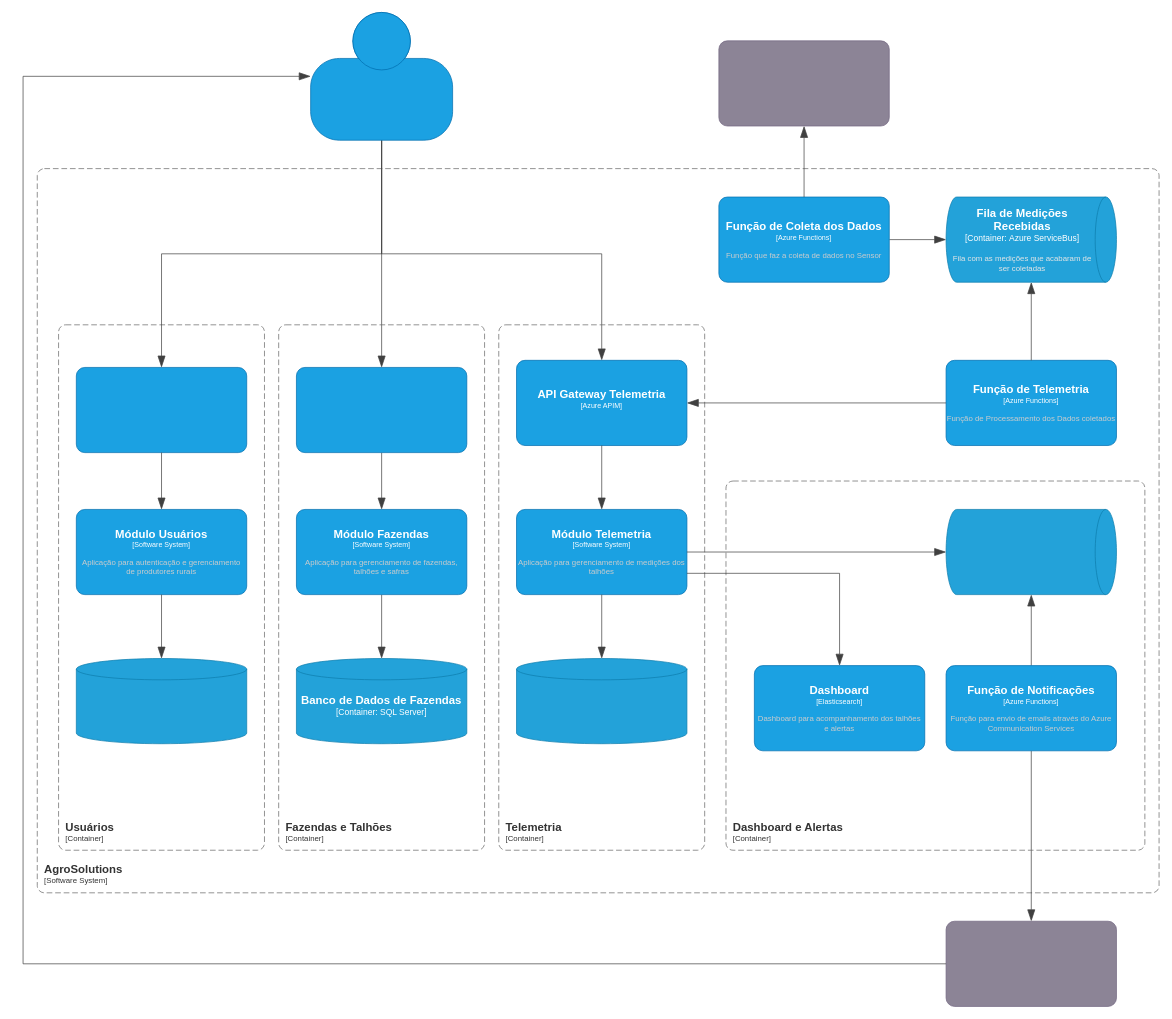
The diagram is 1172 pixels wide and 1019 high, and some of its shapes have lost their labels. The shapes that lost their labels are listed below. From the top down, each one's centre as x and y in pixels, then its label:
At [381,76]: "Produtor Rural [Person]".
At [803,83]: "Sensor [Software System] Sensor de dados dos talhões".
At [161,410]: "API Gateway Usuários [Azure APIM]".
At [381,410]: "API Gateway Fazendas [Azure APIM]".
At [1030,552]: "Fila de Alertas [Container: Azure ServiceBus] Fila de Emails pendentes de envio".
At [161,701]: "Banco de Dados de Usuários [Container: SQL Server]".
At [601,701]: "Banco de Dados de Telemetria [Container: Cosmos DB]".
At [1030,963]: "Provedor de Email [Azure Communication Services]".
